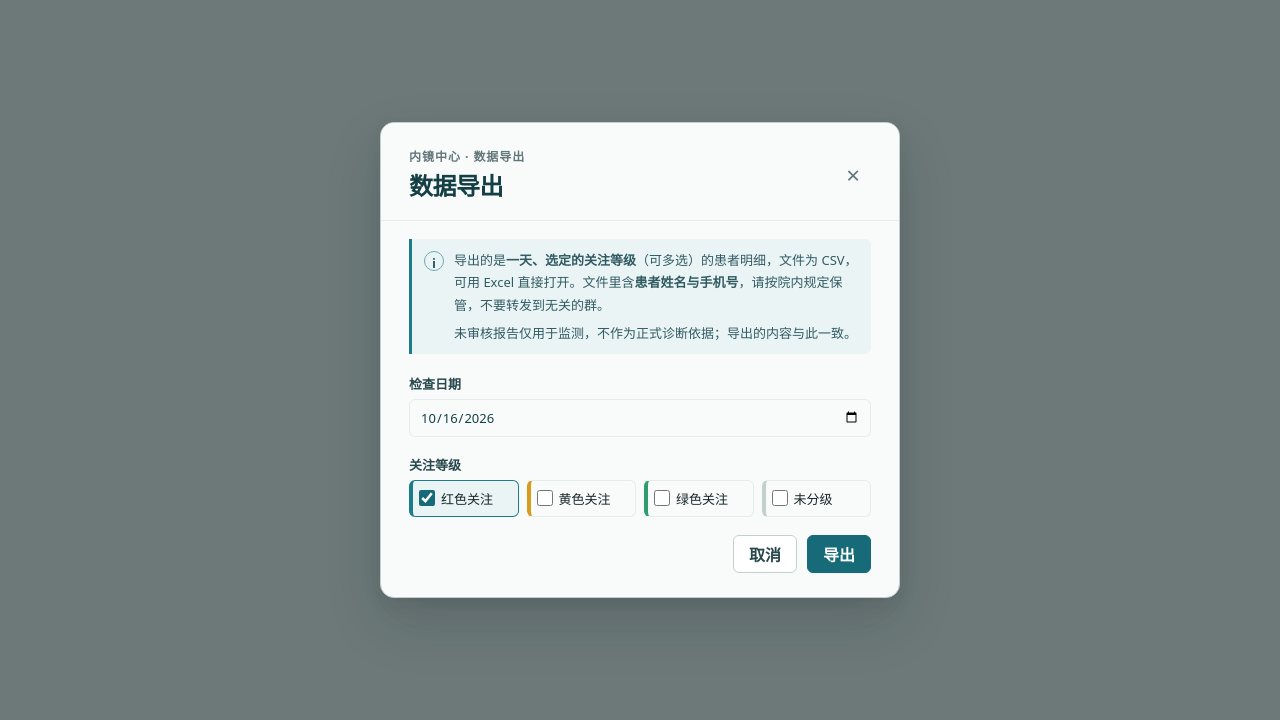
Test: ExportModal (issue #139) › does not save a header-only file when the day has no matching rows
Click the button "导出".
click(839, 554)  # box [807,535,871,573]
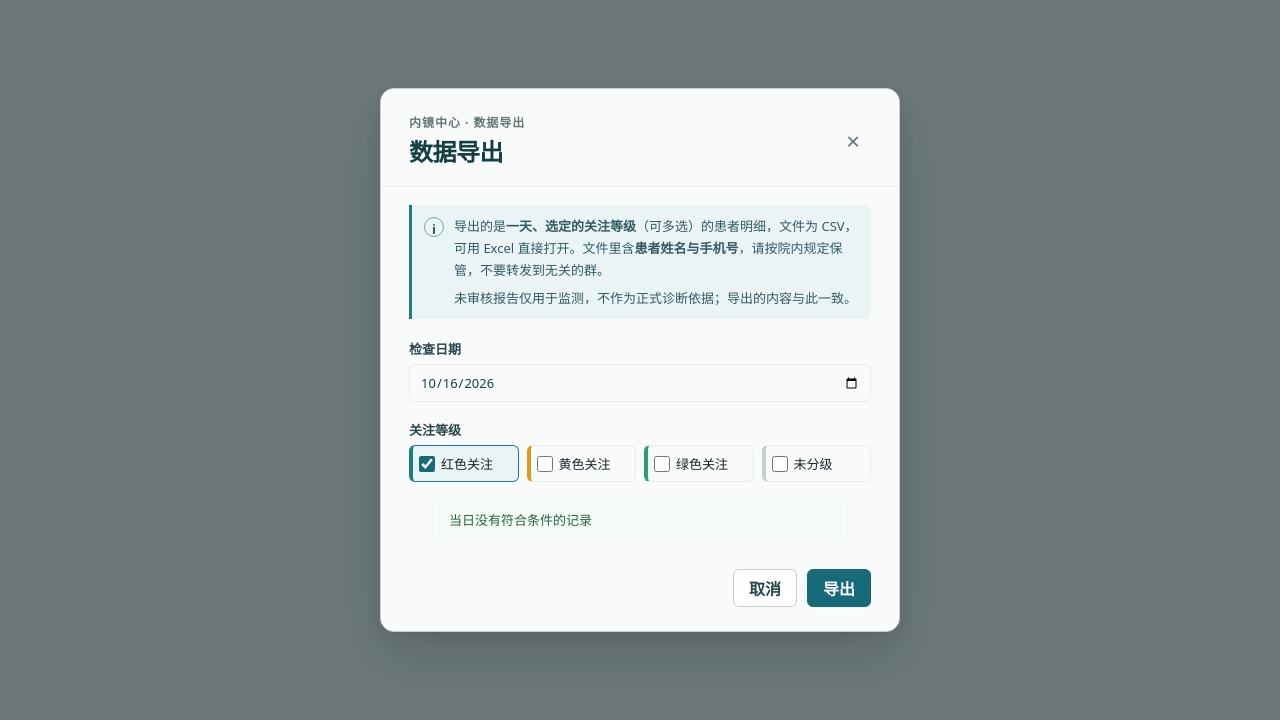
Expected: the button "导出" is enabled, [807,569,871,607]
Expected: the message reads "当日没有符合条件的记录", [449,511,592,529]
